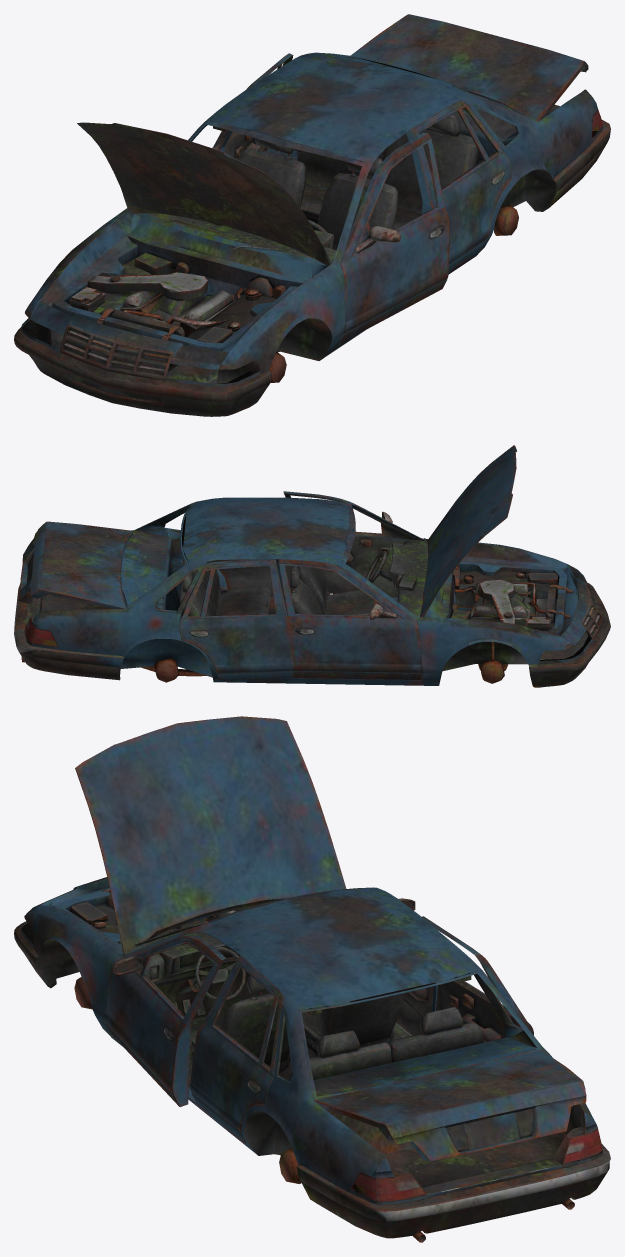
Rendered from car_sedan2.gltf.
3 renders of one model, top to bottom at view 1: azimuth 30°, elevation 25°; view 2: azimuth 150°, elevation 25°; view 3: azimuth 270°, elevation 25°, orthographic. The views are drawn at different scales.
Visible parts, largest first — view 1: Bottom_0, Hood_3, Trunkdoor_4, Door_FR_inner.001_13, Seats_9, Bumper_front_inner_12, Engine_6, Door_RR.001_14, Dashboard_7, Bumper_rear_1, SUSPENSION_5, Door_RR_11; view 2: Bottom_0, Door_FR_inner_10, Door_RR_11, Trunkdoor_4, Hood_3, Seats_9, Engine_6, Door_FR_inner.001_13, Bumper_rear_1, Dashboard_7, Bumper_front_inner_12, SUSPENSION_5 (+2 smaller); view 3: Bottom_0, Hood_3, Trunkdoor_4, Seats_9, Bumper_rear_1, Door_FR_inner.001_13, Door_RR.001_14, Door_RR_11, Dashboard_7, Stoplights_glass_2, Door_FR_inner_10, SUSPENSION_5 (+2 smaller).
Part boxes in pixels (bbox=[...]): Bottom_0: bbox=[21, 52, 602, 386]; Hood_3: bbox=[77, 122, 331, 266]; Trunkdoor_4: bbox=[350, 14, 588, 121]; Door_FR_inner.001_13: bbox=[339, 132, 449, 343]; Seats_9: bbox=[238, 114, 479, 250]; Bumper_front_inner_12: bbox=[14, 320, 271, 416]; Engine_6: bbox=[69, 252, 286, 342]; Door_RR.001_14: bbox=[410, 101, 511, 270]; Dashboard_7: bbox=[144, 213, 336, 261]; Bumper_rear_1: bbox=[549, 104, 610, 207]; SUSPENSION_5: bbox=[168, 204, 518, 382]; Door_RR_11: bbox=[224, 53, 293, 159]; Bottom_0: bbox=[25, 497, 603, 685]; Door_FR_inner_10: bbox=[278, 559, 422, 679]; Door_RR_11: bbox=[179, 559, 293, 680]; Trunkdoor_4: bbox=[18, 521, 132, 608]; Hood_3: bbox=[420, 445, 516, 617]; Seats_9: bbox=[180, 558, 374, 616]; Engine_6: bbox=[451, 566, 557, 631]; Door_FR_inner.001_13: bbox=[283, 491, 423, 597]; Bumper_rear_1: bbox=[14, 584, 124, 680]; Dashboard_7: bbox=[380, 540, 428, 616]; Bumper_front_inner_12: bbox=[528, 582, 610, 687]; SUSPENSION_5: bbox=[21, 598, 508, 683]; Bottom_0: bbox=[20, 877, 602, 1233]; Hood_3: bbox=[75, 716, 346, 955]; Trunkdoor_4: bbox=[314, 1050, 586, 1161]; Seats_9: bbox=[190, 975, 483, 1080]; Bumper_rear_1: bbox=[296, 1143, 610, 1238]; Door_FR_inner.001_13: bbox=[106, 935, 226, 1106]; Door_RR.001_14: bbox=[190, 955, 285, 1142]; Door_RR_11: bbox=[421, 916, 533, 1042]; Dashboard_7: bbox=[129, 928, 262, 1015]; Stoplights_glass_2: bbox=[350, 1127, 602, 1201]; Door_FR_inner_10: bbox=[396, 898, 433, 1035]; SUSPENSION_5: bbox=[74, 977, 574, 1242].
Size of the model in its own units: 50.7 by 17.74 by 37.08.
Materials: 1 (1 with a texture image).
